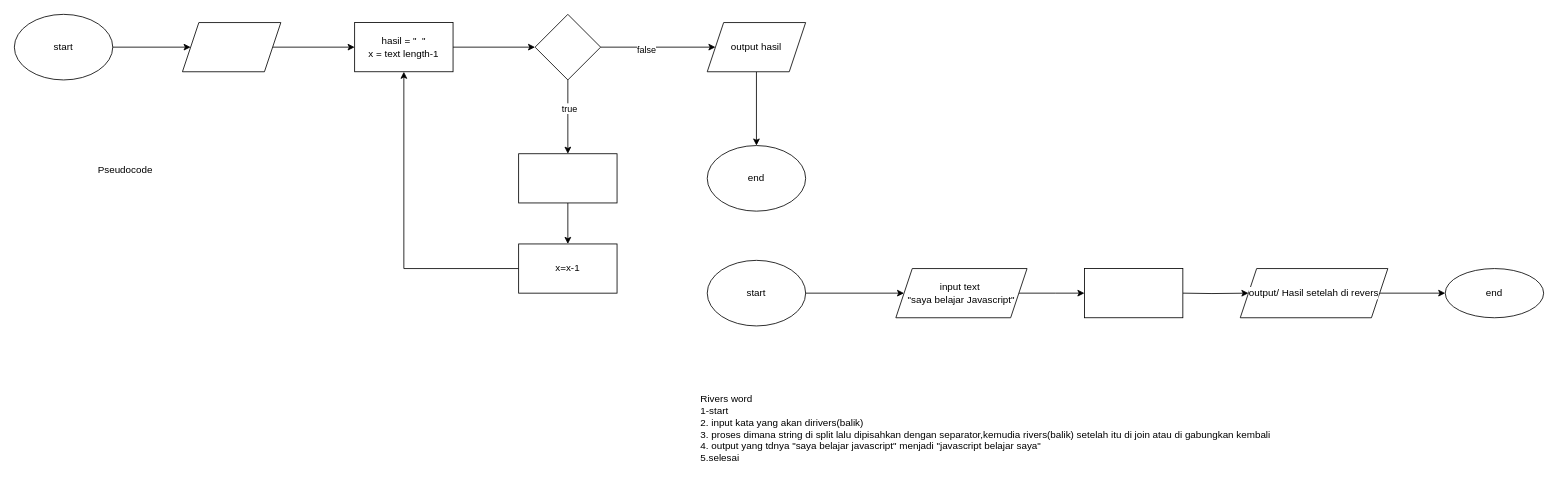
Image size: 1558x480. Some labels were removed from this diagram. The shapes that lost their labels are listed below. From the top down, each one's box as (x1, y1, x2, y2) in pixels, then its label:
(182, 22, 281, 72): input text
(534, 14, 601, 80): x>= -1
(518, 153, 617, 203): hasil= hasil + text (x)
(1084, 268, 1183, 318): str.split(" "). revers().join(" ")
